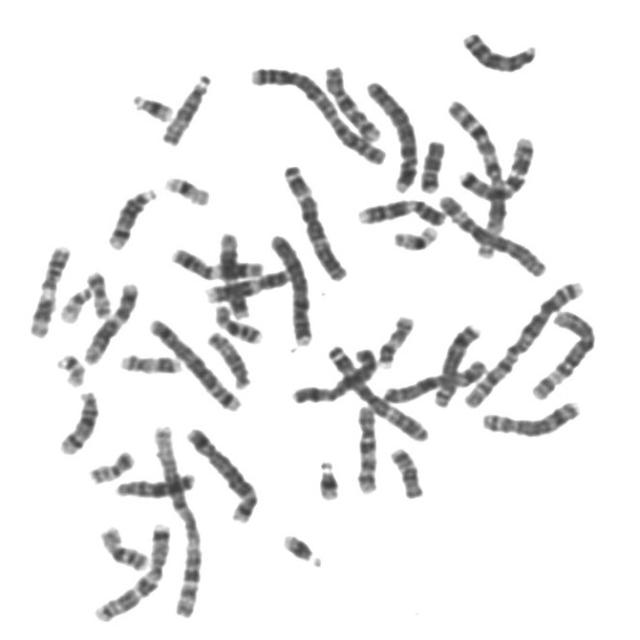A1: (441, 92, 511, 262), (147, 418, 204, 620)
A2: (456, 273, 589, 411), (242, 57, 388, 167)
A3: (321, 338, 432, 442), (276, 157, 350, 283)
B4: (358, 73, 419, 193), (264, 226, 315, 347)
B5: (141, 310, 243, 413), (180, 419, 260, 524)
C10: (319, 58, 384, 144), (350, 398, 381, 496)
C11: (22, 237, 74, 339), (165, 241, 266, 281)
C12: (76, 275, 140, 365), (211, 229, 257, 323)
C6: (432, 187, 548, 278), (524, 303, 599, 401)
C7: (86, 516, 173, 624), (453, 128, 538, 203)
C8: (428, 318, 483, 409), (474, 393, 584, 438)
C9: (200, 262, 294, 303), (350, 191, 450, 227)
D13: (456, 24, 540, 75), (108, 467, 198, 500)
D14: (100, 180, 160, 252), (52, 383, 100, 456)
D15: (154, 66, 214, 148), (201, 324, 253, 391)
E16: (92, 519, 152, 573), (207, 297, 266, 345)
E17: (371, 309, 416, 369), (114, 346, 184, 376)
E18: (384, 441, 426, 500), (413, 133, 447, 194)
F19: (157, 168, 213, 207), (386, 218, 440, 252)
F20: (82, 442, 138, 486), (80, 264, 114, 320)
G21: (275, 526, 326, 570), (125, 86, 176, 124), (311, 456, 347, 504)
G22: (52, 280, 94, 324), (50, 346, 88, 388)
X: (285, 341, 380, 406), (377, 353, 488, 405)
